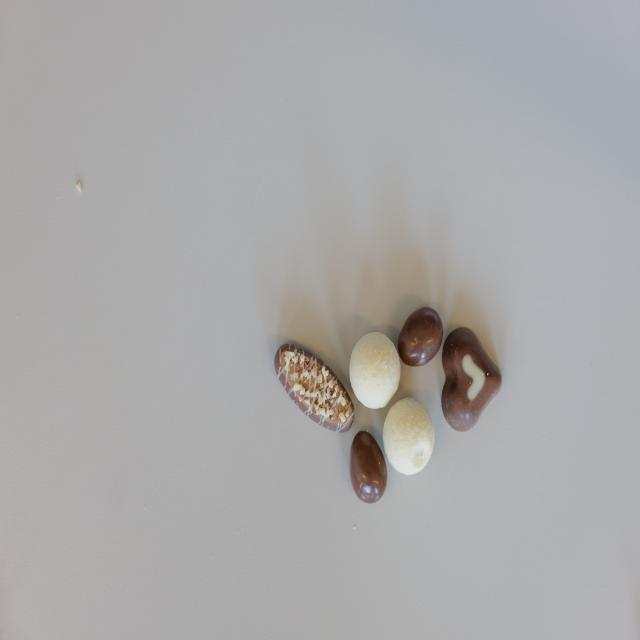Amandina: (275, 342, 355, 433)
Comtesse: (349, 332, 401, 411), (384, 398, 434, 476)
Jelly_Milk: (350, 430, 388, 504), (398, 307, 443, 366)
Passion_au_lait: (441, 325, 502, 434)
